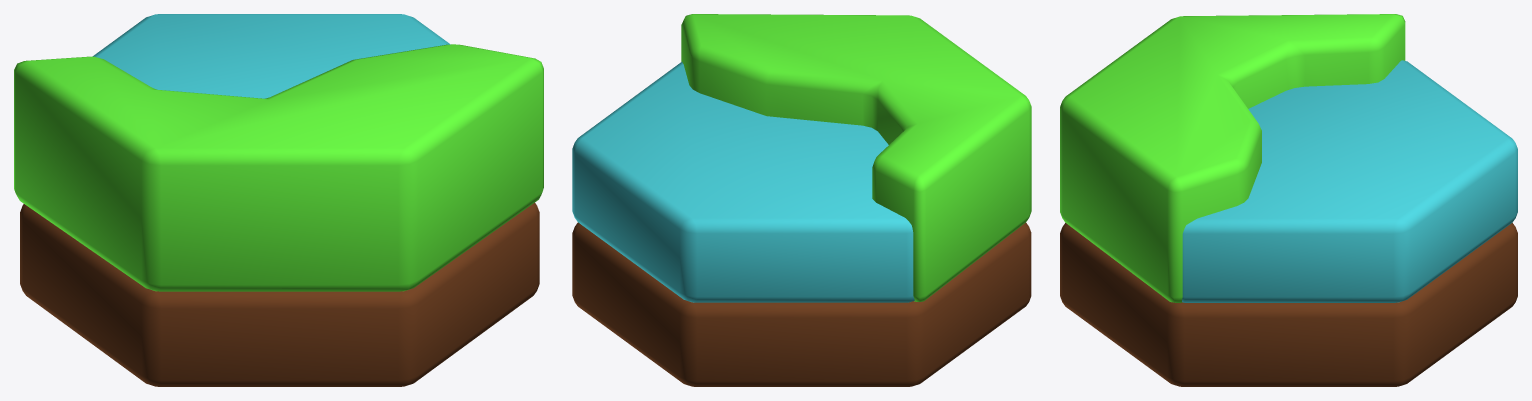
Rendered from ground_water_grass2.glb.
The picture shows the model from 3 angles, left to right: view 1: azimuth 30°, elevation 25°; view 2: azimuth 150°, elevation 25°; view 3: azimuth 270°, elevation 25°; orthographic projection. The views are drawn at different scales.
Visible parts, largest first — view 1: ground_water_grass2; view 2: ground_water_grass2; view 3: ground_water_grass2.
Boxes of the visible parts, left/top/right/bottom form: ground_water_grass2: left=14, top=14, right=543, bottom=386; ground_water_grass2: left=572, top=14, right=1031, bottom=386; ground_water_grass2: left=1060, top=14, right=1517, bottom=386.
Bounding box in the file's own units: 7.04 × 4 × 7.9.
